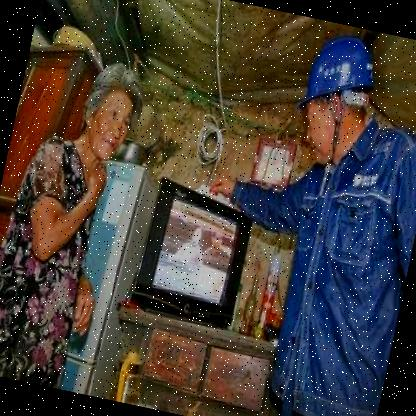capacete: (284, 23, 388, 169)
sem_capacete: (71, 54, 153, 173)
sem_colete_refletivo: (250, 107, 415, 415), (0, 125, 117, 389)
